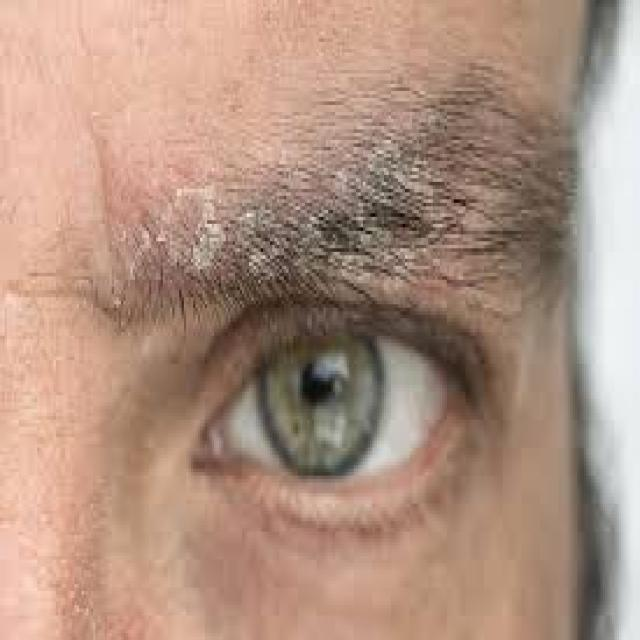flakiness: (136, 199, 348, 266)
